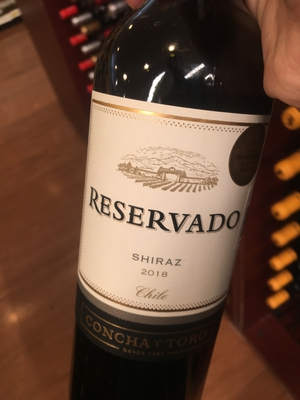reservado shiraz: (73, 16, 262, 400)
